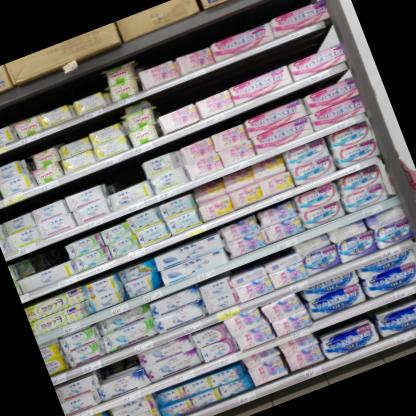empty_space: (98, 156, 147, 199), (27, 242, 69, 277)
